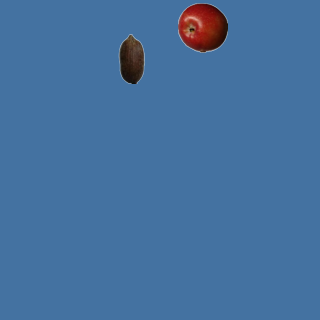Apple Braeburn: (177, 2, 227, 52)
Nut Pecan: (106, 33, 156, 83)
